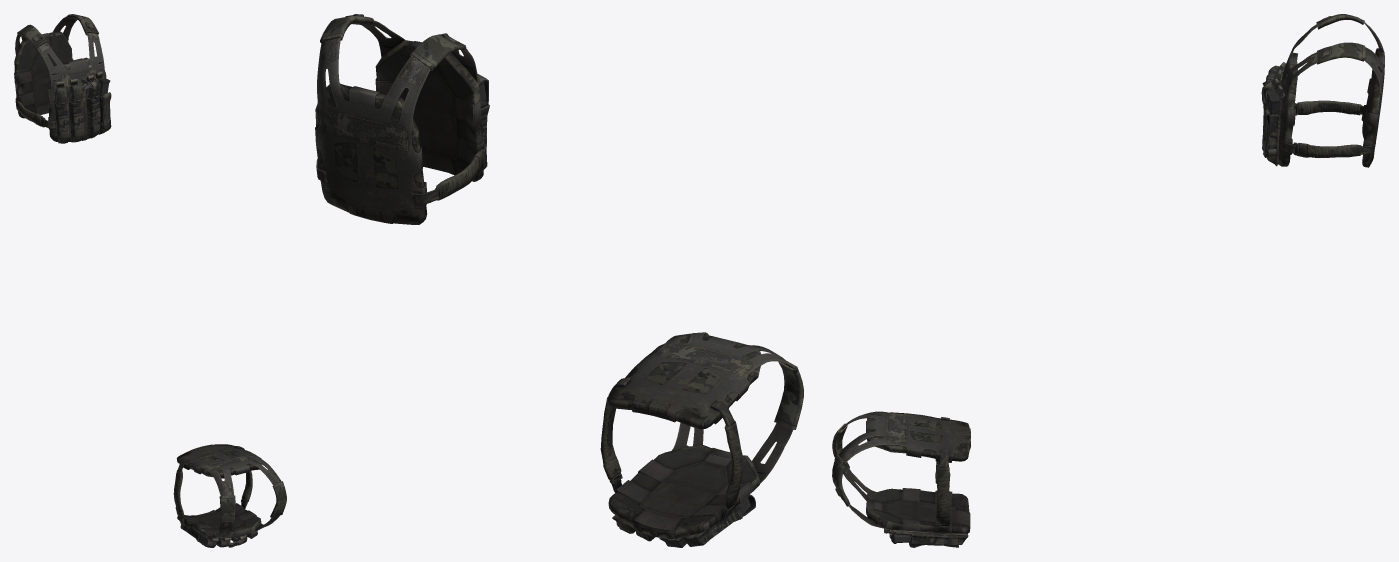
Rendered from item_equipment_rig_TT_plate_carrier.fbx.
The picture shows the model from 3 angles, left to right: view 1: azimuth 30°, elevation 25°; view 2: azimuth 150°, elevation 25°; view 3: azimuth 270°, elevation 25°; orthographic projection. The views are drawn at different scales.
Parts seen in each view (by area): view 1: AR_TT_Plate_Carrier_lod0 (×2); view 2: AR_TT_Plate_Carrier_lod0 (×2); view 3: AR_TT_Plate_Carrier_lod0 (×2).
Part boxes in pixels (<box>): AR_TT_Plate_Carrier_lod0 (×2): <box>14,14,286,547</box>; AR_TT_Plate_Carrier_lod0 (×2): <box>315,14,803,547</box>; AR_TT_Plate_Carrier_lod0 (×2): <box>832,14,1384,547</box>.
Size of what is drawn, in the model's own units: 0.359 by 1.8 by 1.77.
